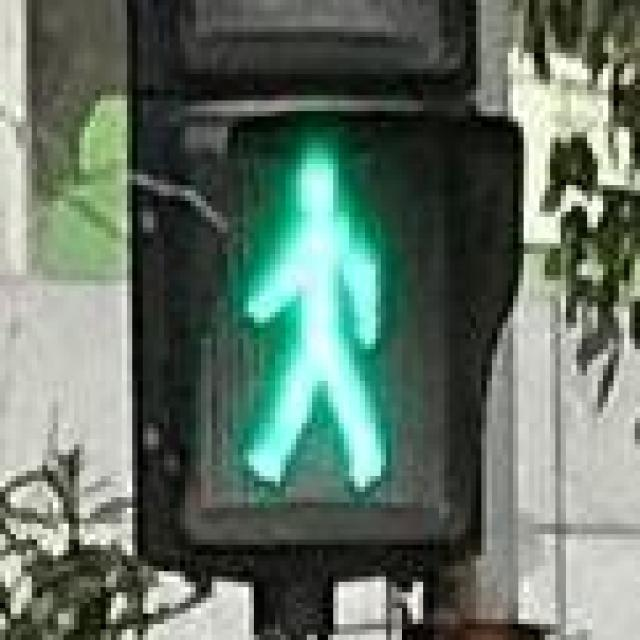green-light: (170, 101, 456, 530)
